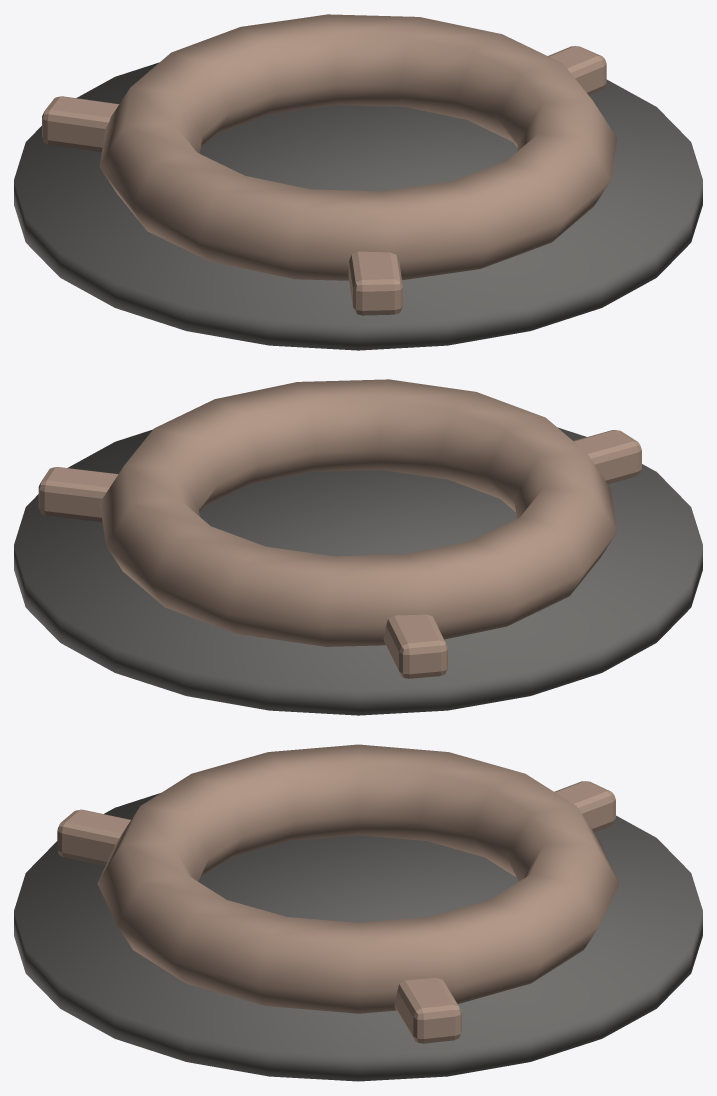
The model's file is item-mine-used.glb.
3 views of the same model, one above another, from view 1: azimuth 30°, elevation 25°; view 2: azimuth 150°, elevation 25°; view 3: azimuth 270°, elevation 25° (orthographic).
Visible parts, largest first — view 1: mesh_item_mine_used_accent, mesh_item_mine_used_body; view 2: mesh_item_mine_used_accent, mesh_item_mine_used_body; view 3: mesh_item_mine_used_accent, mesh_item_mine_used_body.
Boxes of the visible parts, x1,y1,x2,y2 form: mesh_item_mine_used_accent: [42, 14, 617, 315]; mesh_item_mine_used_body: [14, 62, 702, 350]; mesh_item_mine_used_accent: [38, 379, 641, 678]; mesh_item_mine_used_body: [14, 427, 702, 715]; mesh_item_mine_used_accent: [57, 744, 619, 1043]; mesh_item_mine_used_body: [14, 793, 702, 1081].
Size of the model in its own units: 0.62 by 0.091 by 0.62.
